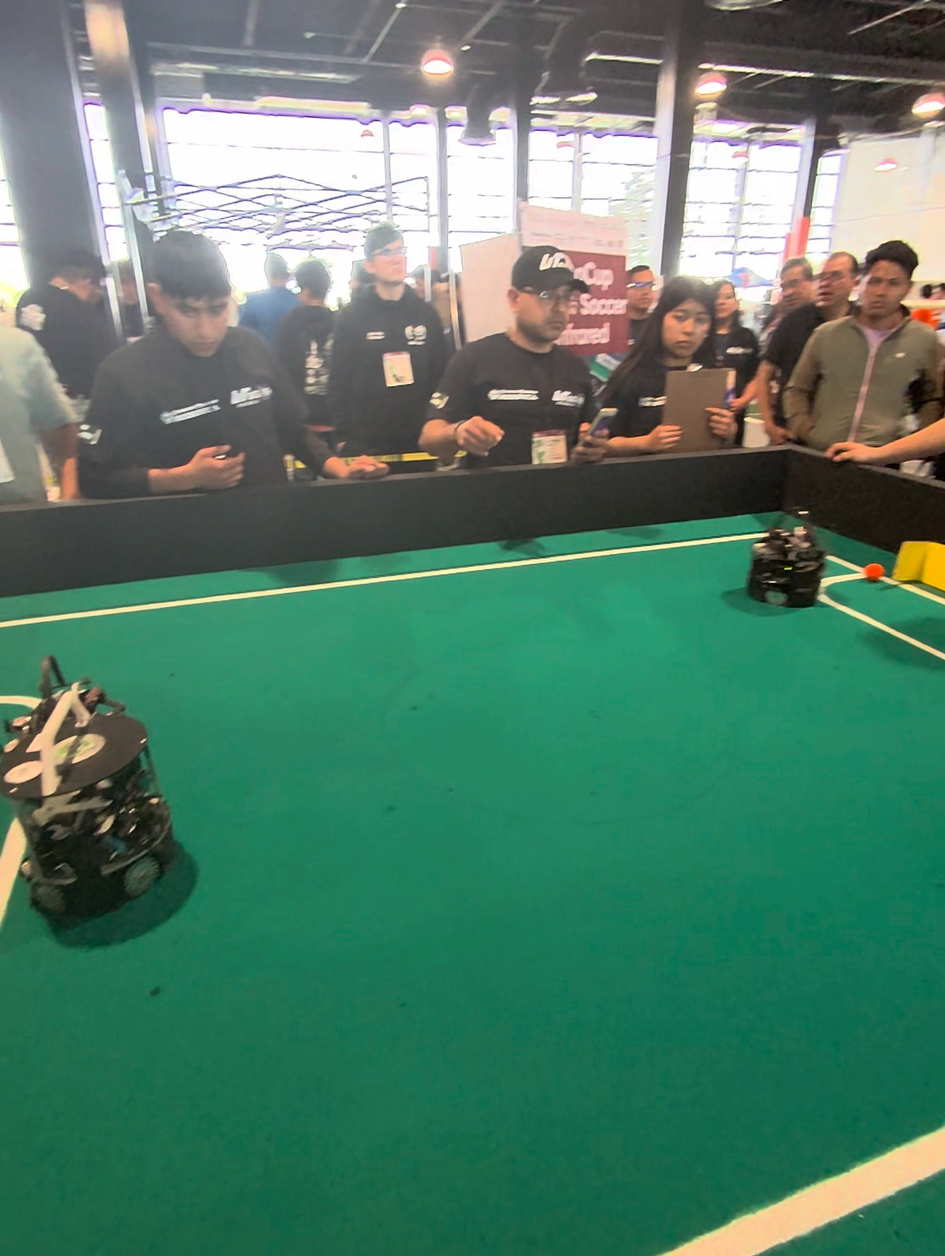Robot: (7, 652, 195, 962), (748, 506, 832, 616)
pelota: (863, 561, 884, 582)
